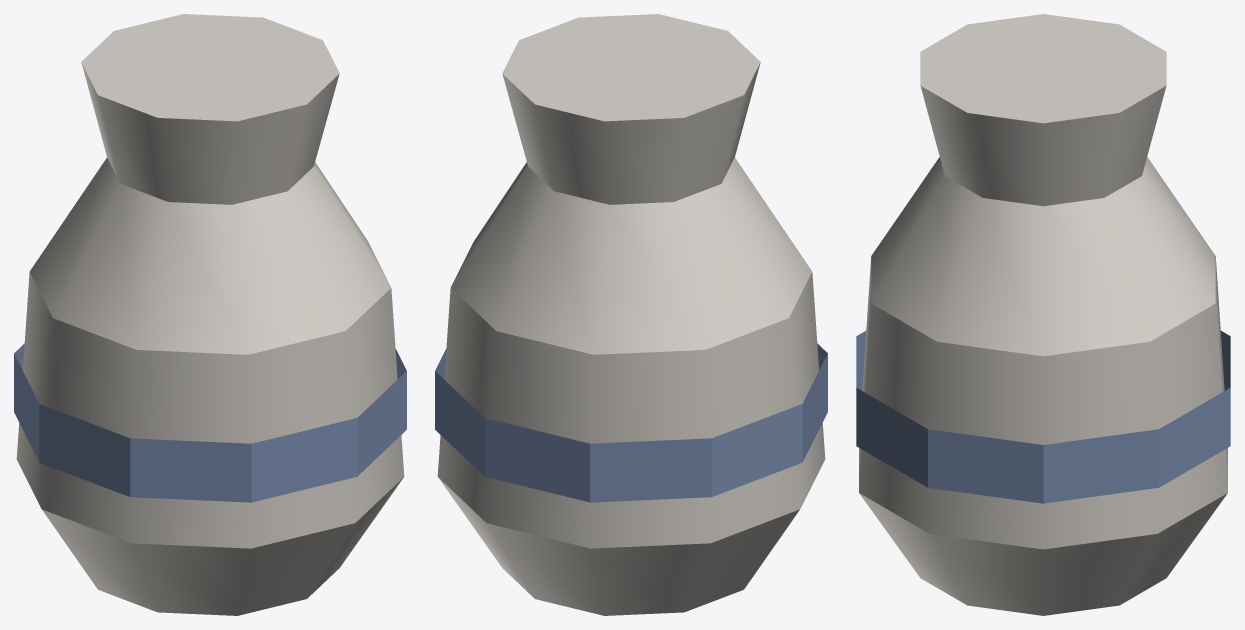
Rendered from vase.glb.
The picture shows the model from 3 angles, left to right: view 1: azimuth 30°, elevation 25°; view 2: azimuth 150°, elevation 25°; view 3: azimuth 270°, elevation 25°; orthographic projection.
Visible parts, largest first — view 1: Vase; view 2: Vase; view 3: Vase.
Boxes of the visible parts, left/top/right/bottom form: Vase: left=14, top=14, right=406, bottom=615; Vase: left=435, top=14, right=827, bottom=615; Vase: left=856, top=14, right=1230, bottom=615.
Size of the model in its own units: 0.304 by 0.42 by 0.2891.
